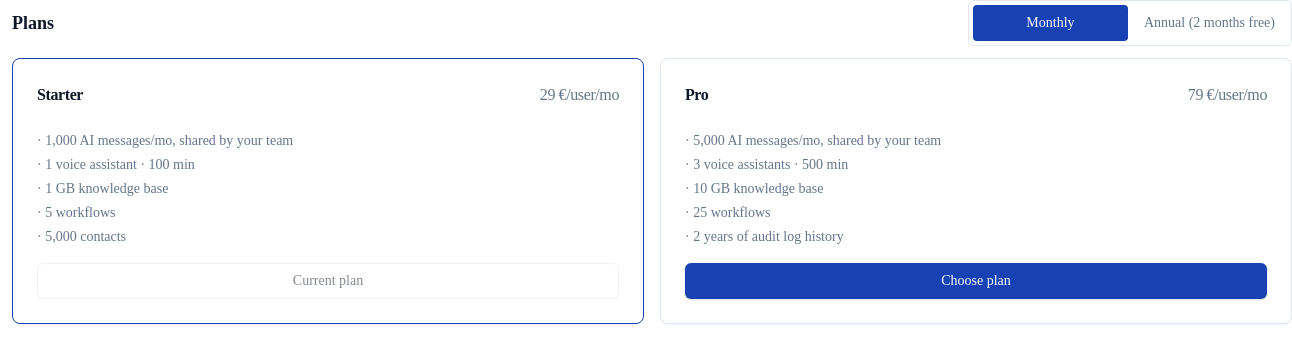
Test: PlanCards interval toggle (en) › switching to annual keeps the same price rule and checkout arguments
This screenshot has width=1292, height=341.
Step 1. Click the button "Annual (2 months free)" → (1210, 23), box [1132,5,1287,41]
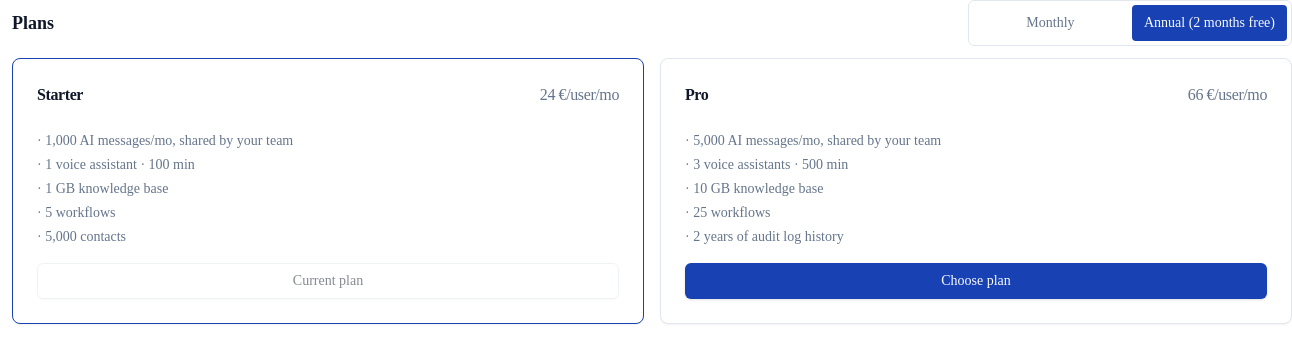
Expected: the text "24 €/user/mo" is shown, [540,83,619,107]
Expected: the text "66 €/user/mo" is shown, [1188,83,1267,107]
